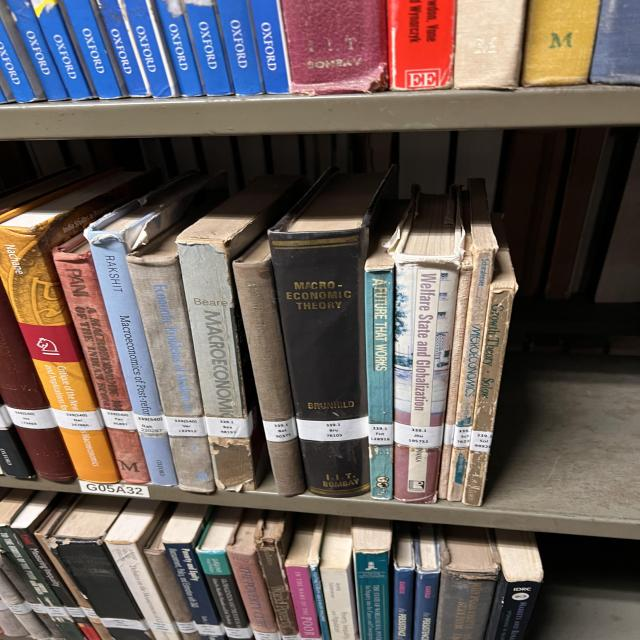Book: (0, 171, 145, 482), (177, 175, 307, 491), (268, 170, 393, 496), (85, 171, 210, 486), (127, 216, 215, 492), (388, 188, 465, 502), (53, 235, 150, 484), (233, 236, 305, 496), (443, 179, 498, 501), (0, 282, 75, 481), (462, 241, 518, 506), (365, 200, 407, 500), (282, 0, 388, 95), (522, 0, 600, 86), (453, 0, 527, 89), (30, 0, 93, 100), (7, 0, 68, 101), (387, 0, 455, 90), (63, 0, 122, 99), (123, 0, 180, 98), (97, 0, 152, 98), (183, 0, 233, 96), (155, 0, 203, 96), (217, 0, 263, 95), (590, 0, 640, 85), (250, 0, 290, 94)
Label: (297, 416, 368, 441), (395, 422, 443, 448), (205, 412, 253, 438), (7, 406, 58, 429), (52, 409, 105, 431), (163, 416, 207, 436), (263, 418, 297, 442), (100, 409, 137, 430), (133, 414, 167, 435), (368, 424, 393, 445), (470, 430, 493, 452), (453, 426, 472, 448)
